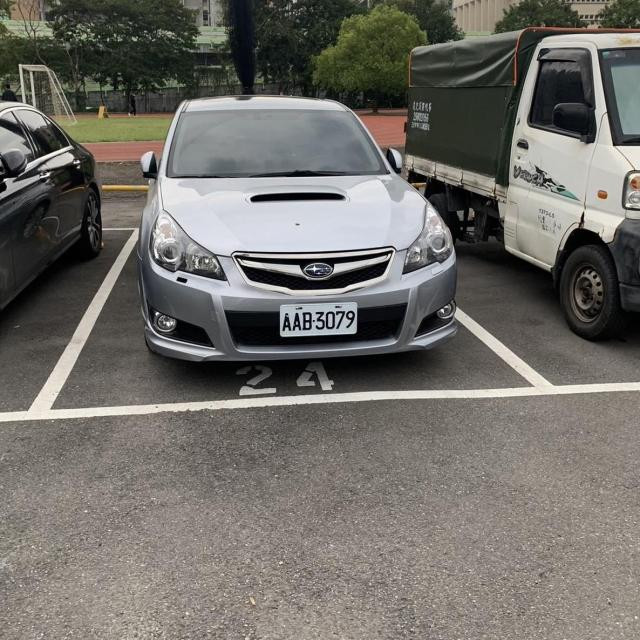W: (274, 297, 362, 341)
